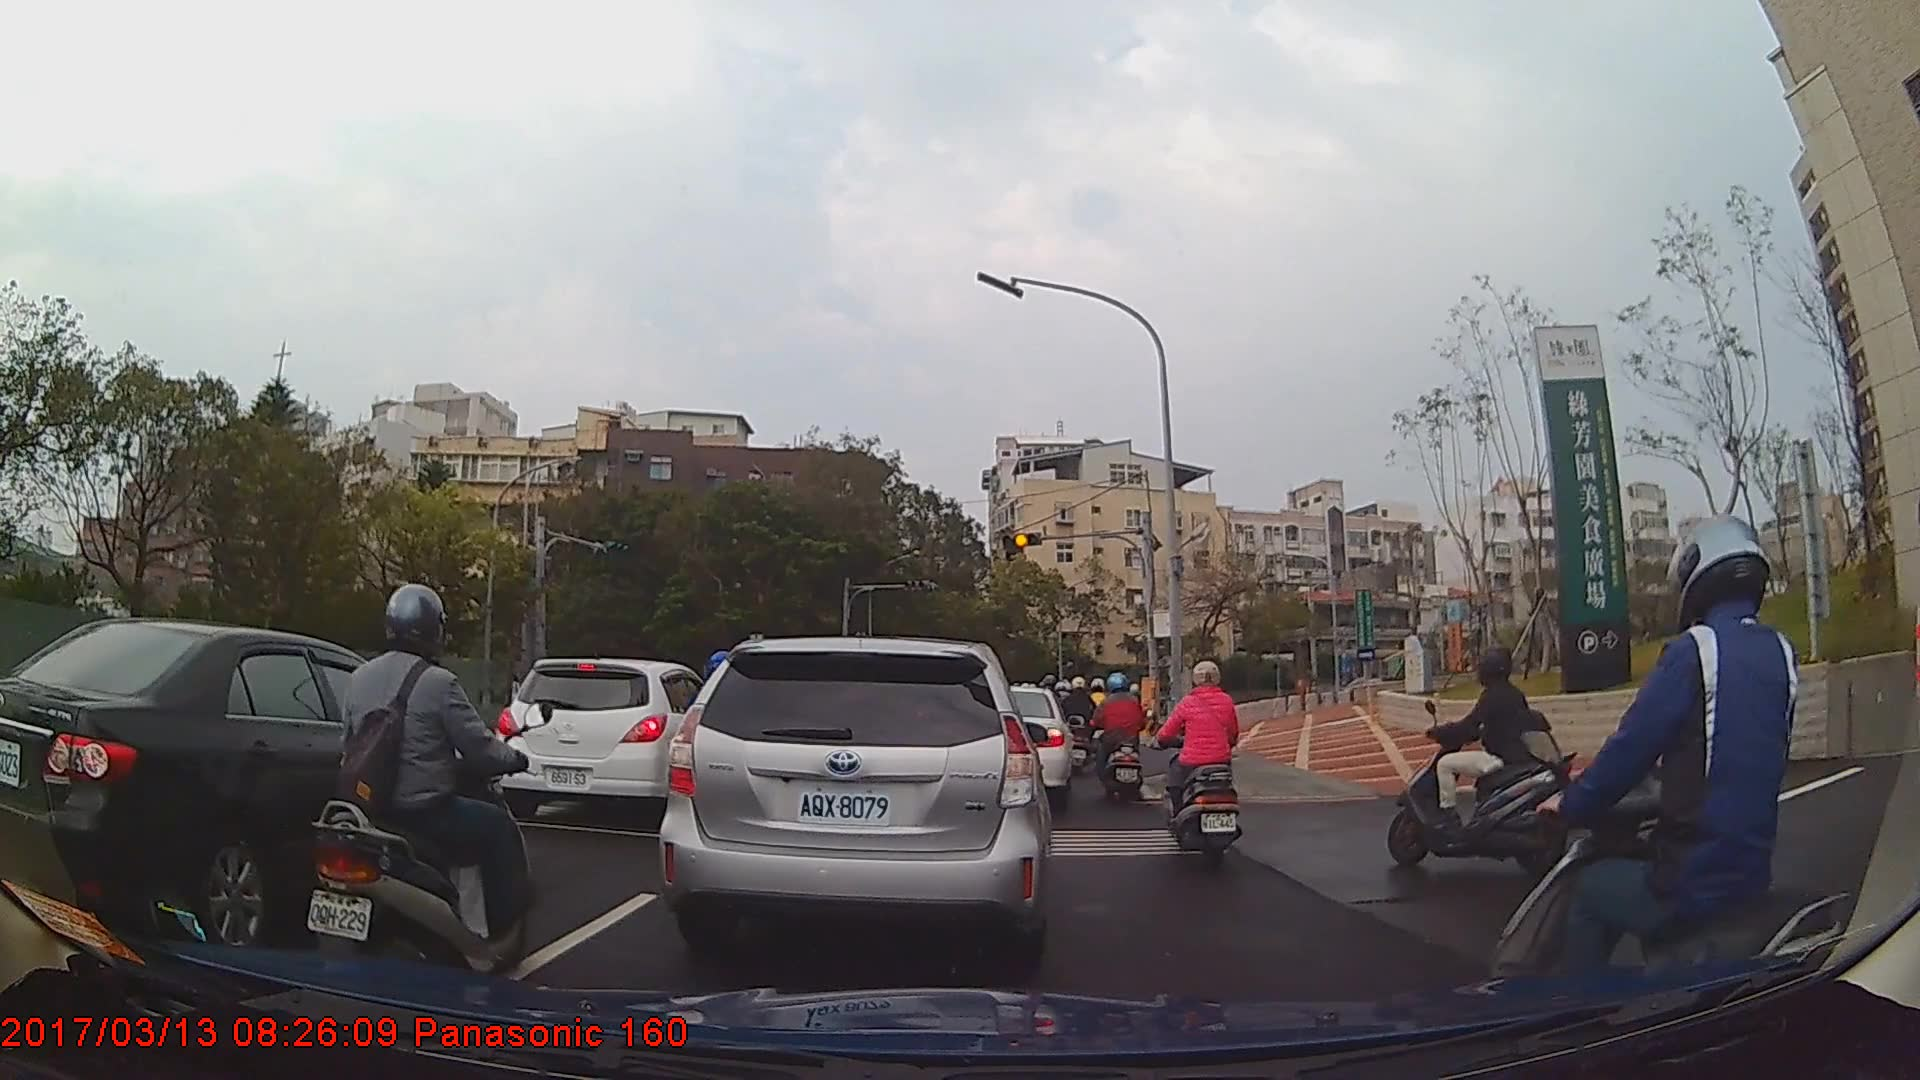pedestrian: (504, 673, 525, 729)
rider: (1495, 514, 1883, 1080), (304, 579, 535, 1004), (1389, 650, 1582, 872), (1161, 658, 1243, 869), (1092, 669, 1153, 813), (1064, 674, 1103, 777)
vehicle: (0, 615, 502, 962), (656, 635, 1049, 963), (493, 657, 724, 826), (963, 686, 1075, 806)
